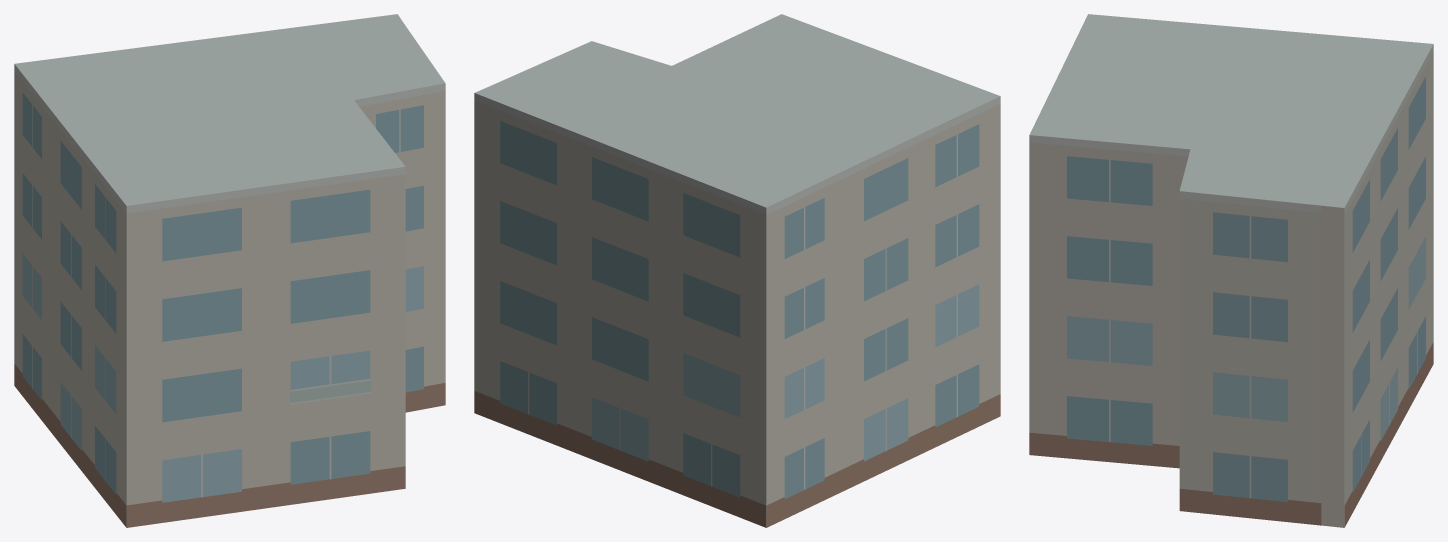
File: survey-upis-32944110.glb
3 renders of one model, left to right at view 1: azimuth 30°, elevation 25°; view 2: azimuth 150°, elevation 25°; view 3: azimuth 270°, elevation 25°, orthographic.
Parts seen in each view (by area): view 1: survey-upis-32944110.tmp; view 2: survey-upis-32944110.tmp; view 3: survey-upis-32944110.tmp.
Boxes of the visible parts, bbox=[...] form: survey-upis-32944110.tmp: bbox=[14, 14, 445, 527]; survey-upis-32944110.tmp: bbox=[474, 14, 1000, 527]; survey-upis-32944110.tmp: bbox=[1029, 14, 1433, 527].
Bounding box in the file's own units: 13.66 × 10.5 × 12.04.
